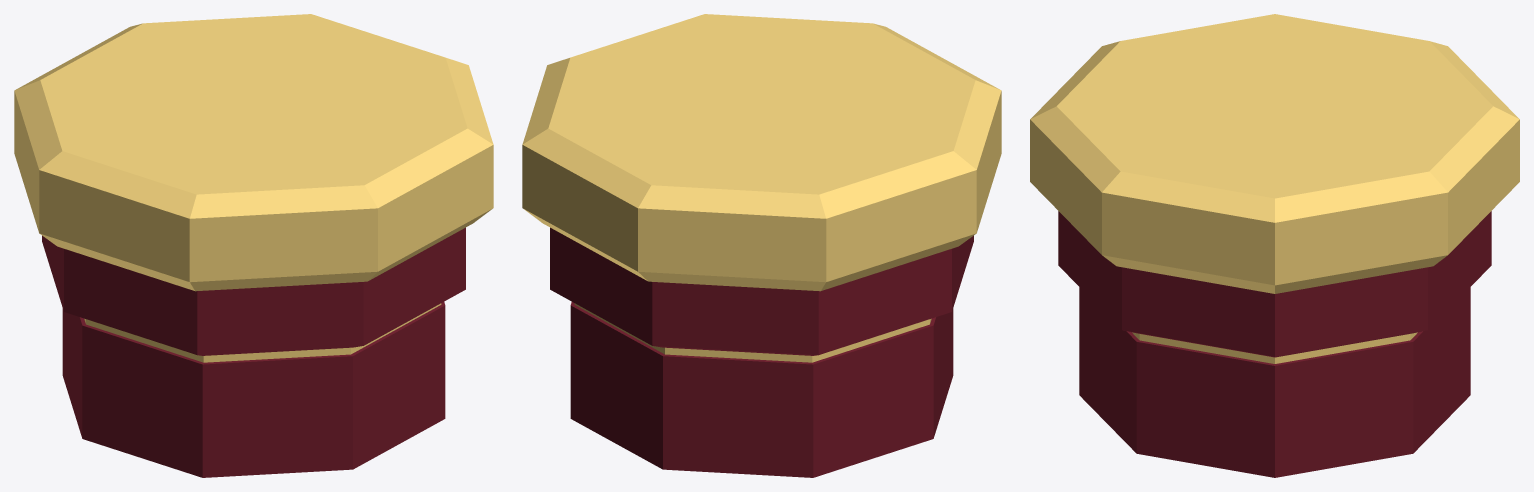
Rendered from pillar_top_001_msh.fbx.
3 renders of one model, left to right at view 1: azimuth 30°, elevation 25°; view 2: azimuth 150°, elevation 25°; view 3: azimuth 270°, elevation 25°, orthographic.
Parts seen in each view (by area): view 1: pillar_top_001_msh; view 2: pillar_top_001_msh; view 3: pillar_top_001_msh.
Boxes of the visible parts, bbox=[...] form: pillar_top_001_msh: bbox=[14, 14, 493, 477]; pillar_top_001_msh: bbox=[522, 14, 1001, 477]; pillar_top_001_msh: bbox=[1030, 14, 1519, 477].
Bounding box in the file's own units: 113 × 73.38 × 113.
